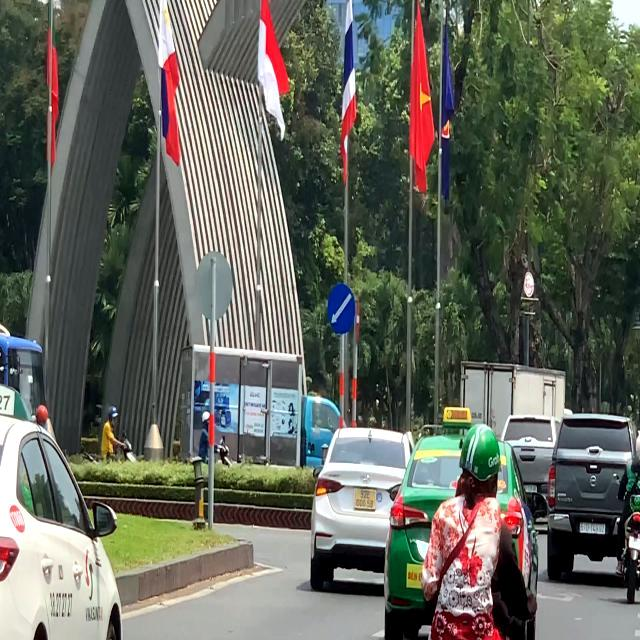Vong chuong ngai vat sang trai: (327, 282, 355, 334)
